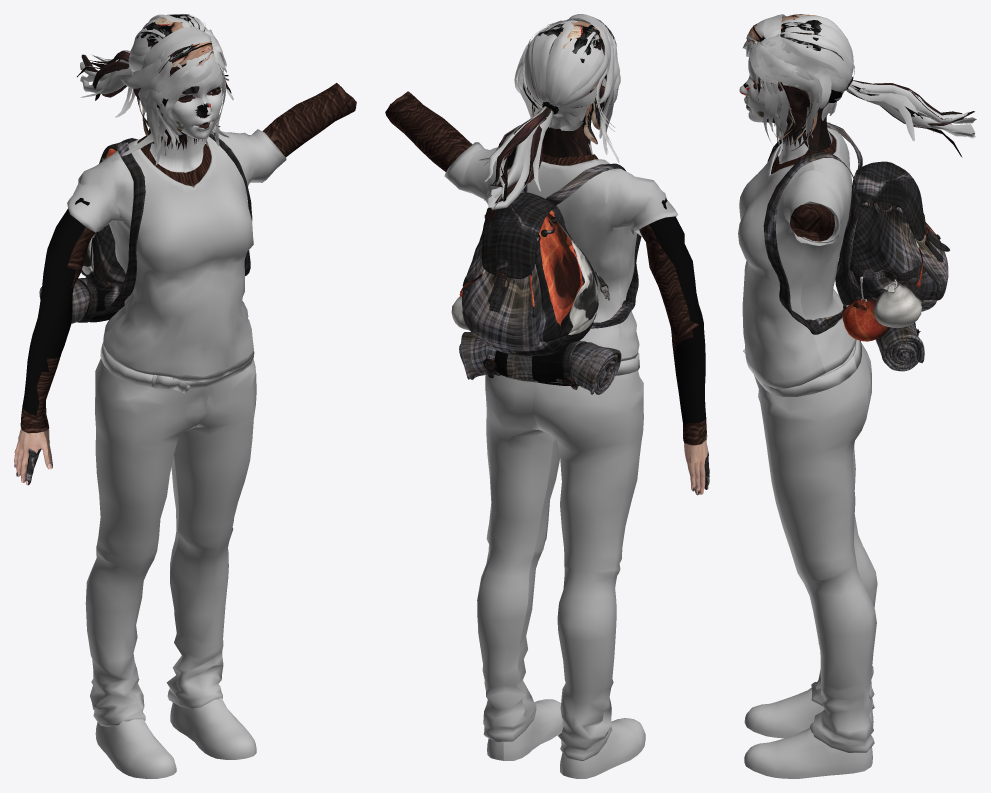
Rendered from ellie2.fbx.
The picture shows the model from 3 angles, left to right: view 1: azimuth 30°, elevation 25°; view 2: azimuth 150°, elevation 25°; view 3: azimuth 270°, elevation 25°; orthographic projection.
Visible parts, largest first — view 1: Body; view 2: Body; view 3: Body.
Part boxes in pixels (x1=…): Body: x1=14, y1=14, x2=356, y2=778; Body: x1=385, y1=14, x2=709, y2=778; Body: x1=738, y1=14, x2=976, y2=778.
Size of the model in its own units: 84.74 by 183 by 54.24.
